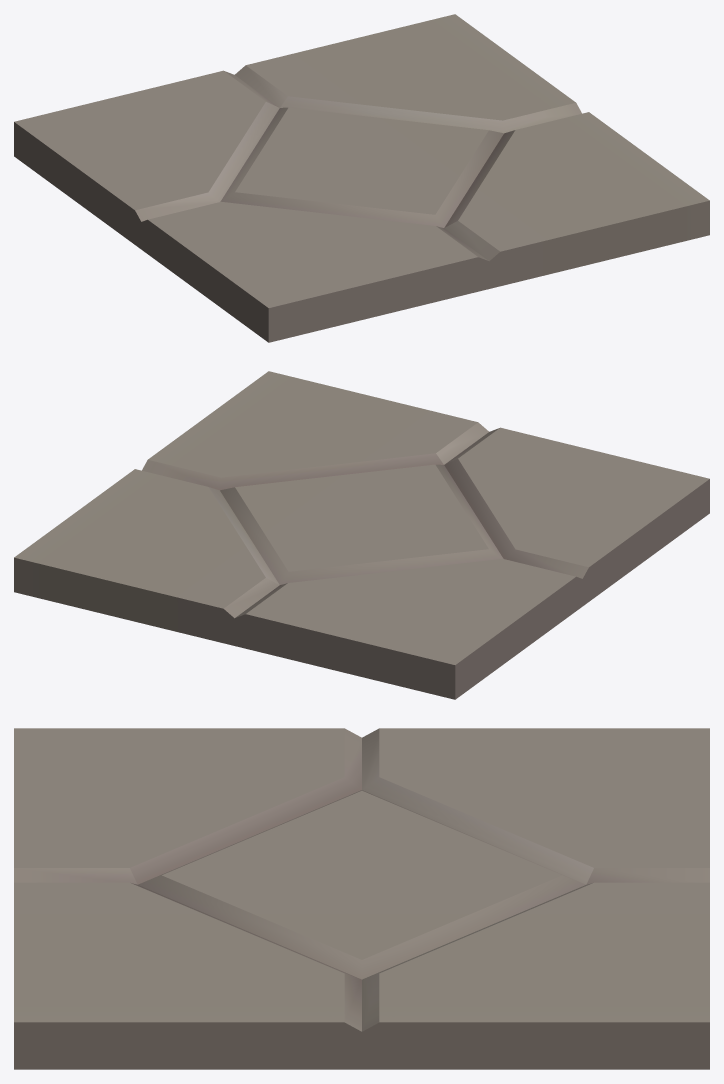
Rendered from b_donjon_sol_dalle.glb.
The picture shows the model from 3 angles, top to bottom: view 1: azimuth 30°, elevation 25°; view 2: azimuth 150°, elevation 25°; view 3: azimuth 270°, elevation 25°; orthographic projection. The views are drawn at different scales.
Visible parts, largest first — view 1: b_donjon_sol_dalle; view 2: b_donjon_sol_dalle; view 3: b_donjon_sol_dalle.
Boxes of the visible parts, left/top/right/bottom form: b_donjon_sol_dalle: left=14, top=14, right=709, bottom=342; b_donjon_sol_dalle: left=14, top=371, right=709, bottom=699; b_donjon_sol_dalle: left=14, top=728, right=709, bottom=1069.
Size of the model in its own units: 2 by 0.1499 by 2.
1 material, 1 textured.
